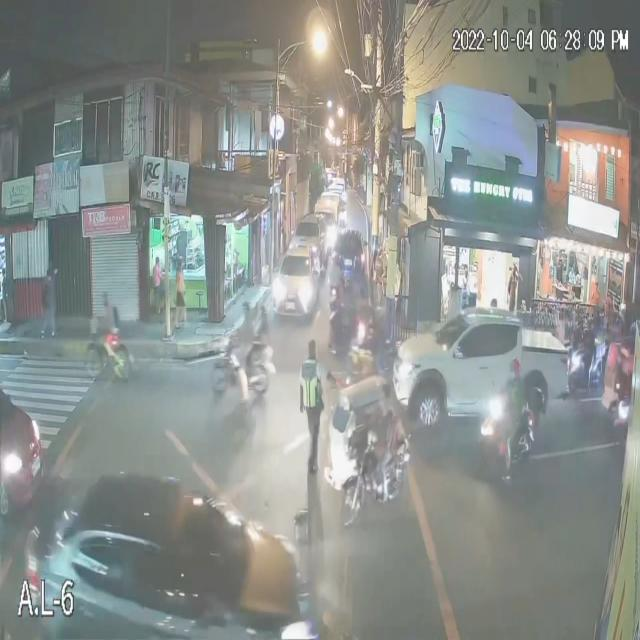Full-Faced: (507, 354, 522, 382), (241, 298, 250, 317)
